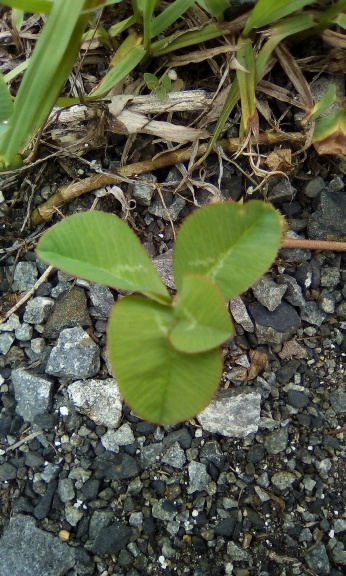4leaf: (32, 198, 290, 425)
